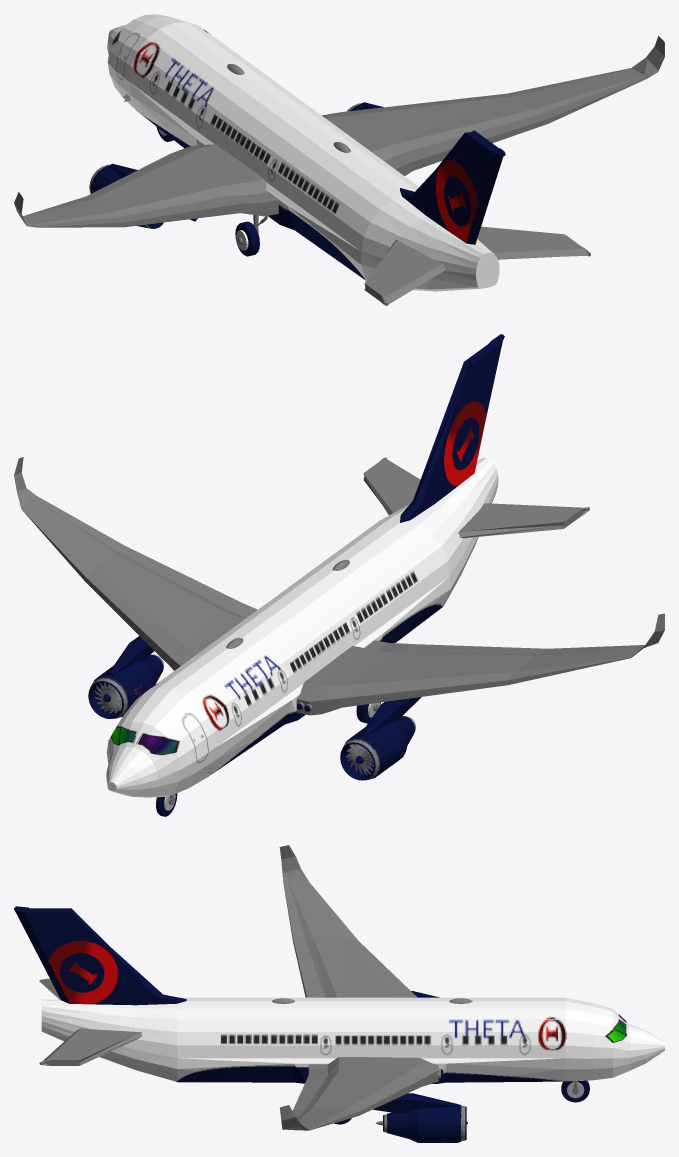
The model's file is airliner2.obj.
The picture shows the model from 3 angles, top to bottom: view 1: azimuth 30°, elevation 25°; view 2: azimuth 150°, elevation 25°; view 3: azimuth 270°, elevation 25°; orthographic projection. The views are drawn at different scales.
Parts seen in each view (by area): view 1: plane_basic; view 2: plane_basic; view 3: plane_basic.
Part boxes in pixels (bbox=[...]): plane_basic: bbox=[14, 14, 664, 305]; plane_basic: bbox=[14, 334, 664, 816]; plane_basic: bbox=[14, 845, 664, 1142].
Size of the model in its own units: 254 by 88.59 by 268.
1 material, 1 textured.
